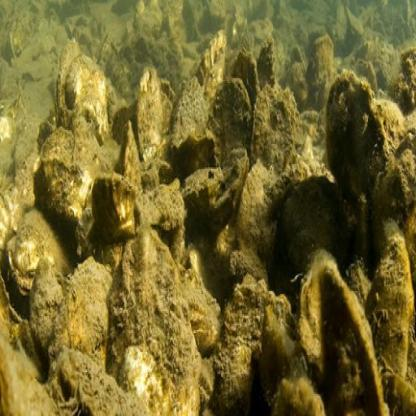Oyster-Closed: (106, 231, 204, 416), (217, 279, 299, 416), (317, 264, 387, 416), (325, 75, 392, 201), (280, 172, 353, 278), (366, 221, 412, 375), (235, 160, 289, 275), (52, 35, 111, 139), (34, 161, 98, 255), (56, 258, 114, 354), (299, 251, 340, 374), (252, 89, 299, 170), (210, 76, 252, 163), (30, 260, 64, 360), (92, 172, 135, 249), (183, 269, 223, 347), (169, 76, 210, 151), (7, 218, 47, 294), (115, 116, 143, 209), (32, 127, 77, 183), (135, 69, 162, 162), (197, 34, 227, 109), (176, 126, 217, 179), (143, 184, 185, 227), (308, 34, 334, 103), (230, 50, 258, 112), (382, 369, 416, 416), (260, 41, 280, 93), (349, 63, 379, 97)
